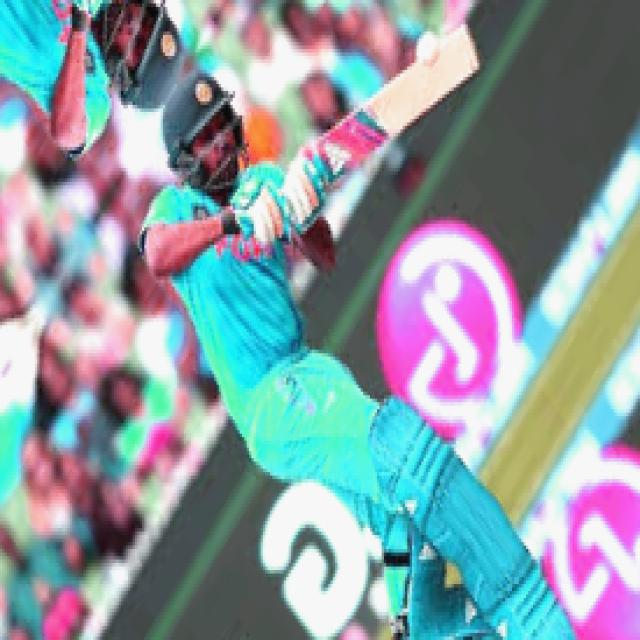toe: (452, 20, 481, 80)
